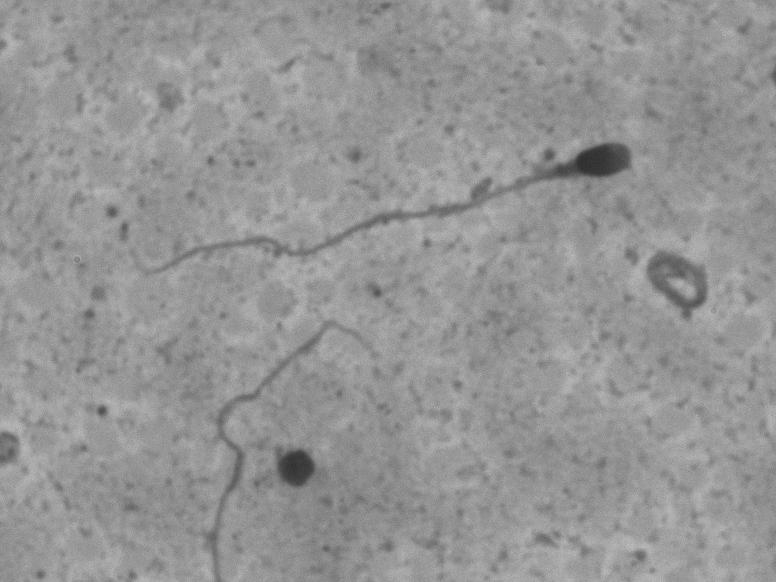Normal: (117, 106, 633, 297)
